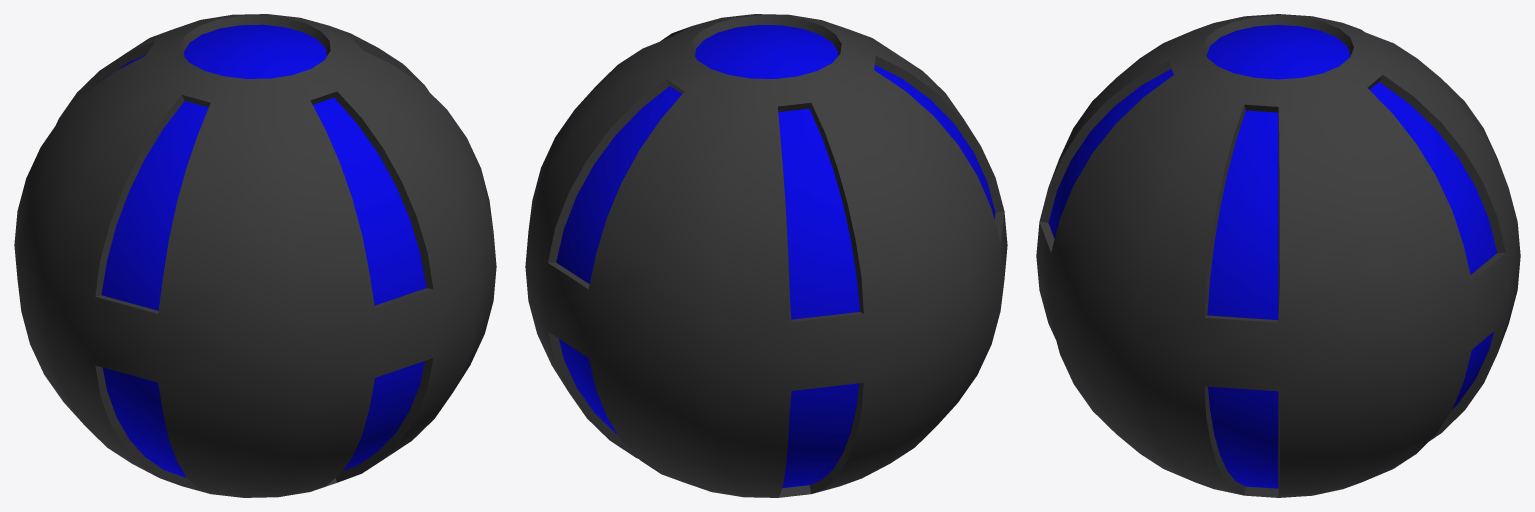
The model's file is ball.fbx.
3 renders of one model, left to right at view 1: azimuth 30°, elevation 25°; view 2: azimuth 150°, elevation 25°; view 3: azimuth 270°, elevation 25°, orthographic.
Parts seen in each view (by area): view 1: pSphere1, pSphere3; view 2: pSphere1, pSphere3; view 3: pSphere1, pSphere3.
Boxes of the visible parts, left/top/right/bottom form: pSphere1: left=14, top=14, right=496, bottom=497; pSphere3: left=101, top=24, right=426, bottom=477; pSphere1: left=525, top=14, right=1007, bottom=497; pSphere3: left=556, top=25, right=995, bottom=488; pSphere1: left=1036, top=14, right=1520, bottom=497; pSphere3: left=1048, top=25, right=1496, bottom=488.
Size of the model in its own units: 104 by 100 by 104.
